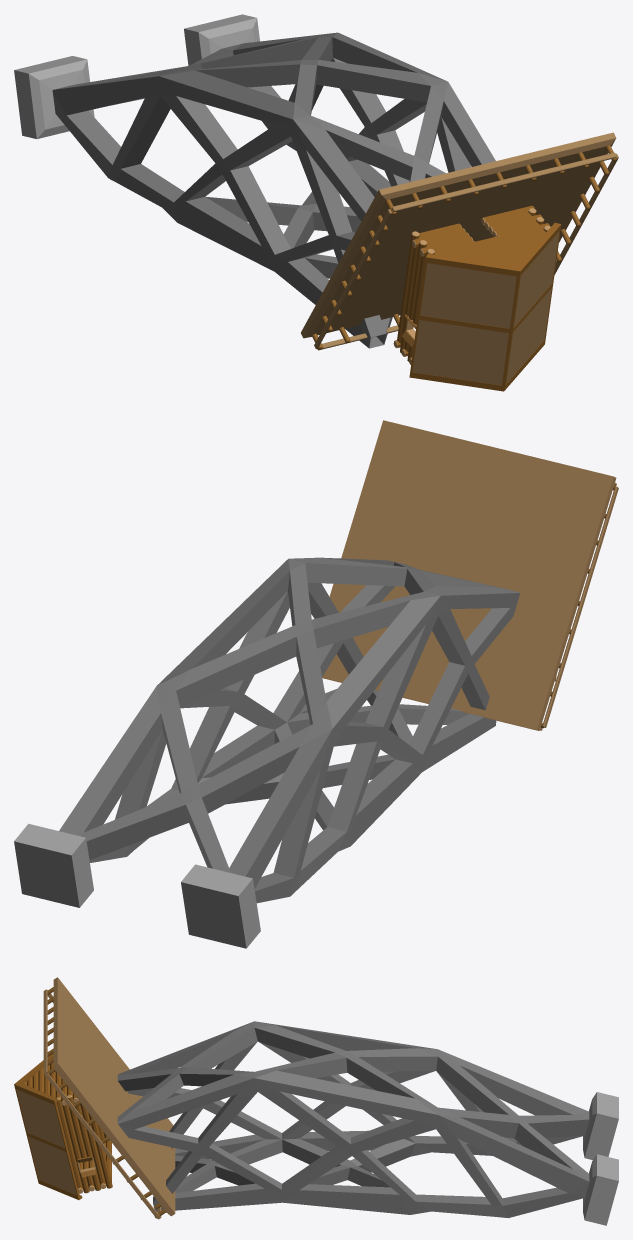
File: broken tower.fbx
3 views of the same model, one above another, from view 1: azimuth 30°, elevation 25°; view 2: azimuth 150°, elevation 25°; view 3: azimuth 270°, elevation 25° (orthographic). The views are drawn at different scales.
Visible parts, largest first — view 1: broken tower; view 2: broken tower; view 3: broken tower.
Boxes of the visible parts, x1,y1,x2,y2 form: broken tower: [14, 14, 618, 391]; broken tower: [14, 420, 618, 948]; broken tower: [14, 977, 618, 1225].
Bounding box in the file's own units: 1616 × 1433 × 4753.
